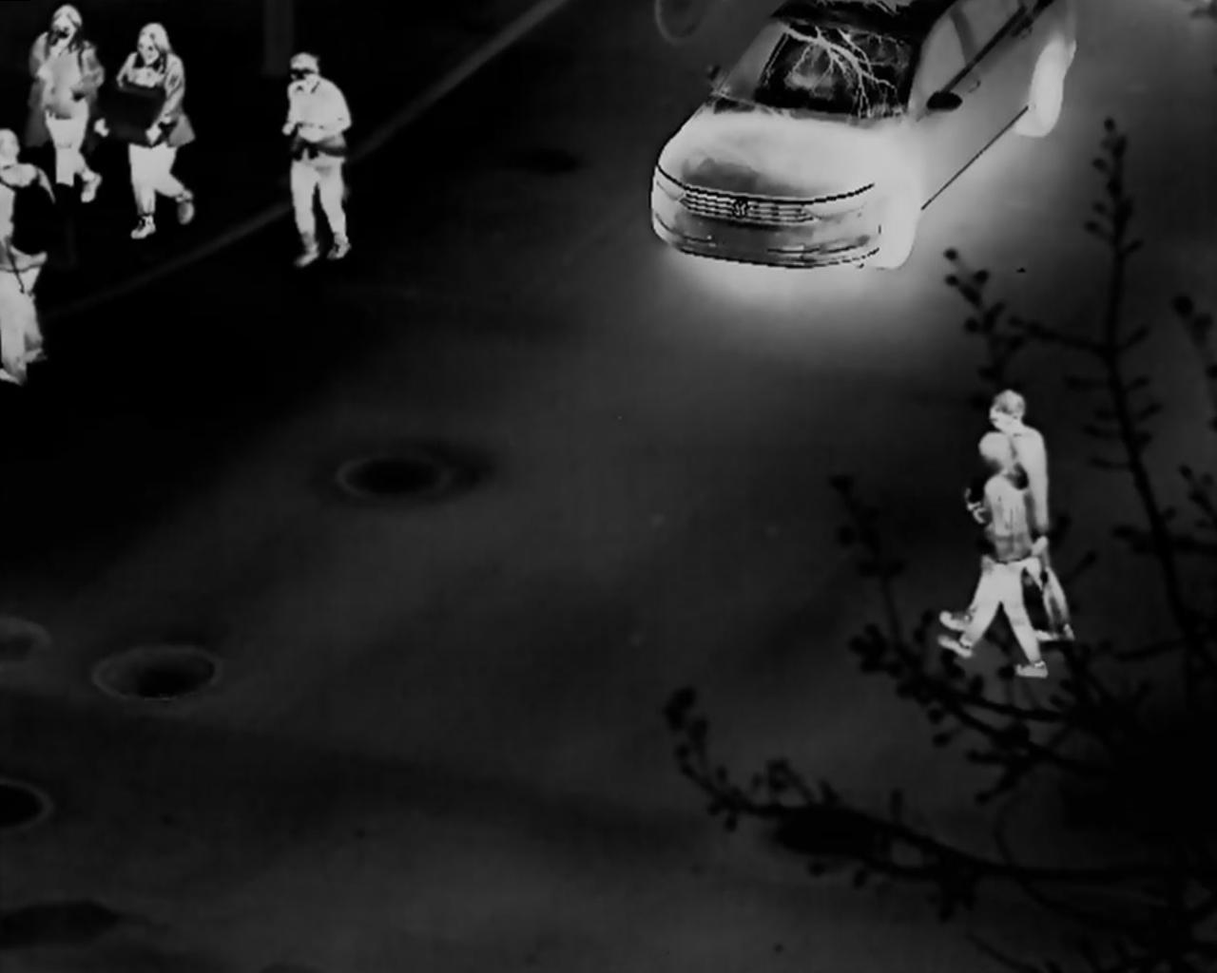person: (936, 430, 1050, 678), (988, 387, 1076, 645), (111, 23, 194, 240), (280, 53, 354, 271), (25, 3, 105, 204)
